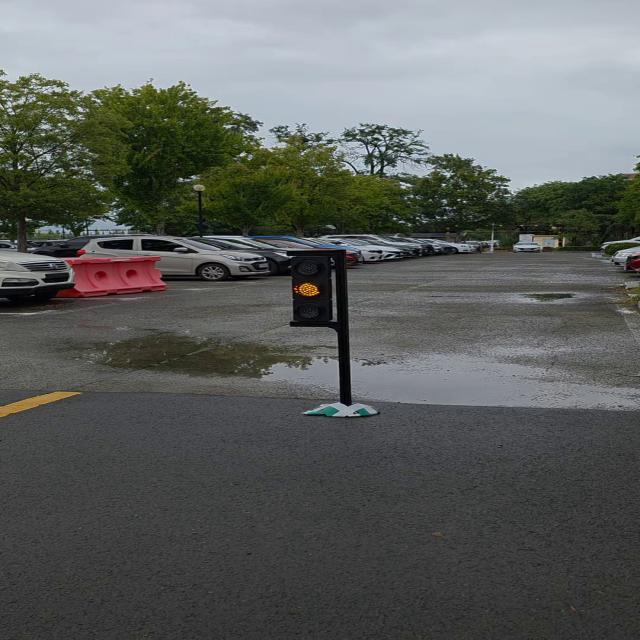yellow: (293, 251, 341, 327)
